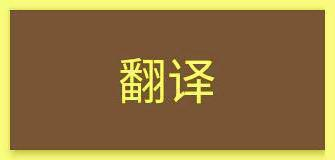Button: (1, 1, 334, 159)
